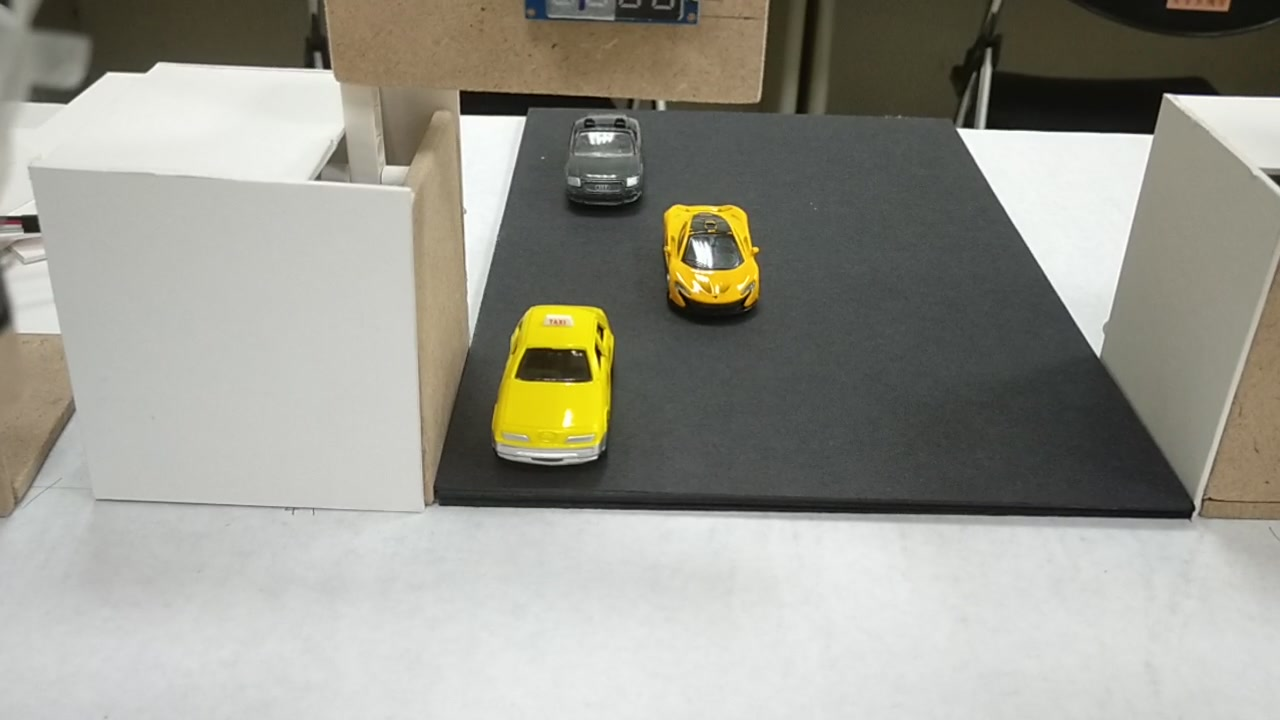car: (489, 306, 622, 461), (663, 201, 762, 316), (569, 111, 642, 205)
